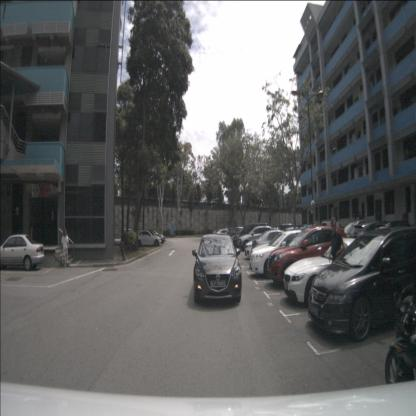human-pedestrian-adult: (329, 217, 345, 299), (61, 226, 70, 269), (358, 211, 362, 226), (354, 212, 358, 226)
vehicle-car: (307, 226, 416, 343), (283, 238, 389, 310), (268, 226, 348, 291), (249, 230, 322, 279), (193, 235, 242, 304), (351, 221, 402, 268), (0, 234, 45, 271), (252, 230, 302, 262), (237, 226, 274, 252), (233, 223, 269, 249), (320, 222, 347, 240), (135, 230, 162, 247), (278, 223, 299, 242), (140, 229, 166, 244), (138, 230, 164, 245), (214, 228, 232, 239)
vehicle-motorcycle: (384, 283, 416, 392)
